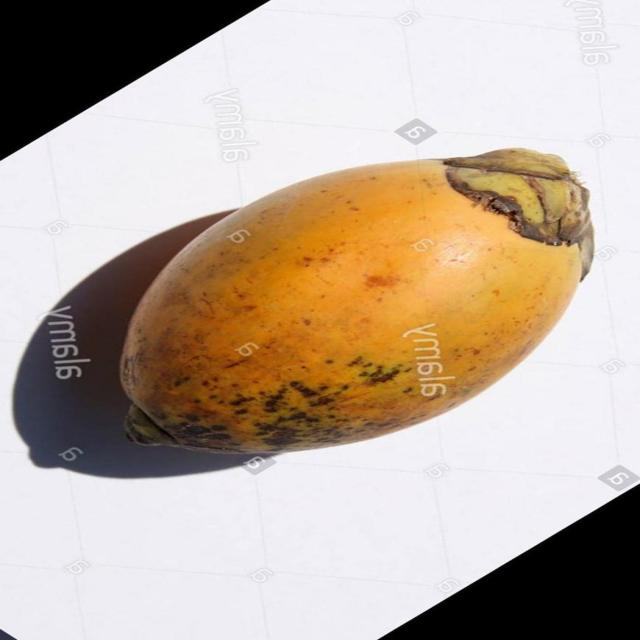good: (117, 148, 597, 460)
